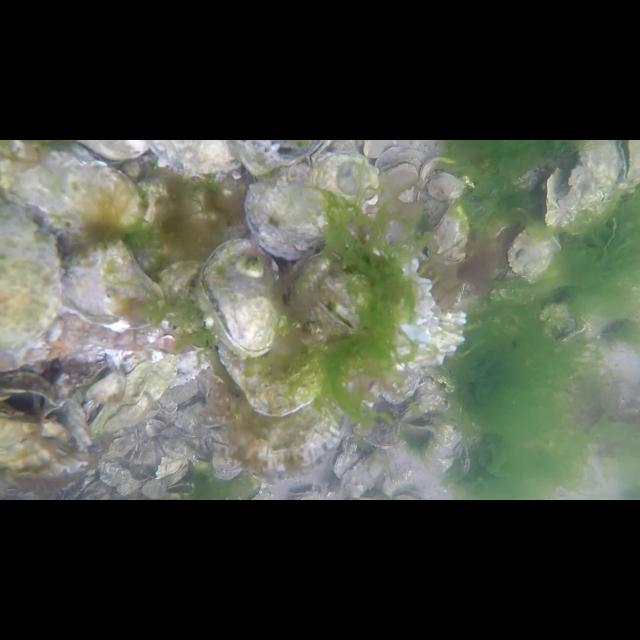Oyster-Closed: (288, 250, 467, 372), (214, 304, 324, 418), (225, 370, 342, 474), (8, 149, 144, 229), (0, 203, 58, 370), (60, 238, 164, 329), (545, 140, 623, 228), (94, 356, 178, 430), (0, 438, 90, 476), (506, 222, 560, 284), (0, 405, 68, 449), (432, 200, 472, 264), (419, 156, 461, 204), (362, 398, 402, 448), (342, 451, 386, 495), (208, 430, 244, 482), (377, 366, 421, 406)
Oyster-Open: (244, 148, 380, 262), (197, 236, 285, 360), (227, 140, 331, 177), (146, 140, 242, 178), (0, 369, 62, 419), (226, 140, 294, 177), (376, 154, 420, 192), (618, 140, 640, 184), (327, 448, 359, 478), (398, 398, 428, 420), (404, 414, 434, 436)
